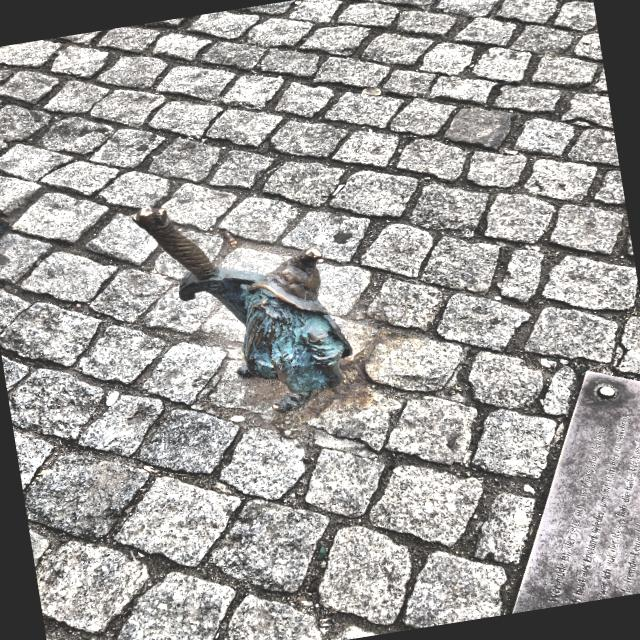Giermek_Grun-Waldek: (133, 207, 352, 411)
